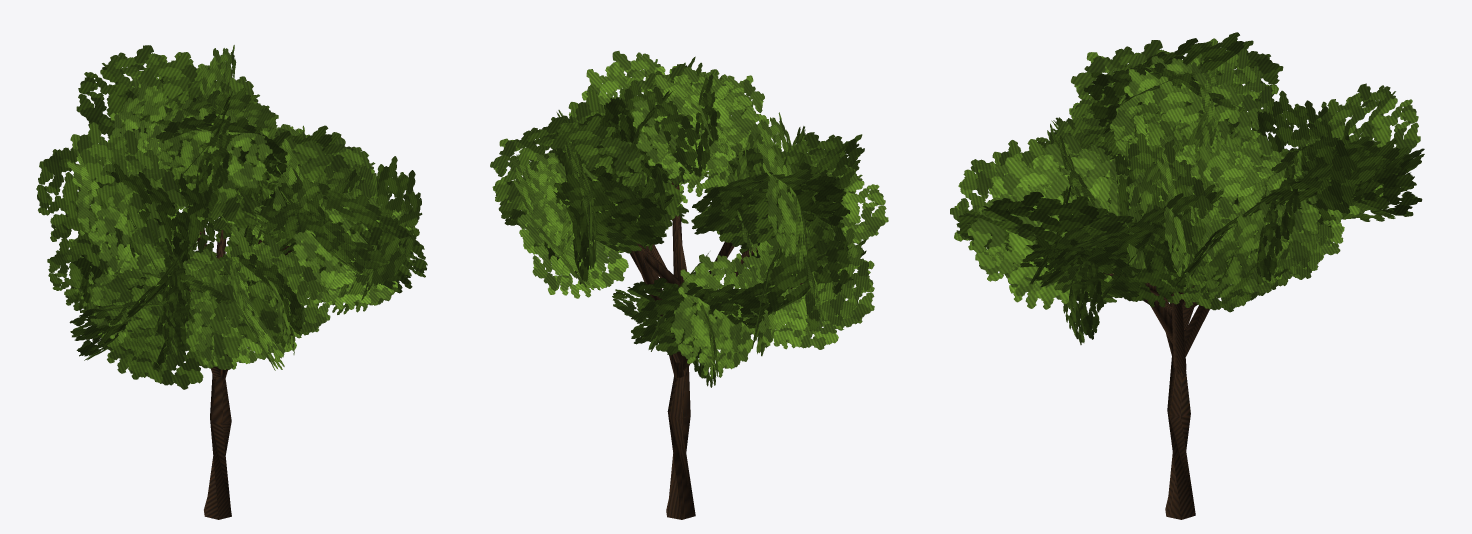
File: oak3Far.glb
3 views of the same model, side by side, from view 1: azimuth 30°, elevation 25°; view 2: azimuth 150°, elevation 25°; view 3: azimuth 270°, elevation 25° (orthographic). The views are drawn at different scales.
Visible parts, largest first — view 1: Rameaux feuillus oak3Far, Tronc et branches oak3Far; view 2: Rameaux feuillus oak3Far, Tronc et branches oak3Far; view 3: Rameaux feuillus oak3Far, Tronc et branches oak3Far.
Part boxes in pixels (box(x1,y1,x2,y2)): Rameaux feuillus oak3Far: box(36, 45, 427, 389); Tronc et branches oak3Far: box(189, 228, 293, 519); Rameaux feuillus oak3Far: box(490, 51, 888, 387); Tronc et branches oak3Far: box(611, 181, 803, 519); Rameaux feuillus oak3Far: box(950, 32, 1424, 344); Tronc et branches oak3Far: box(1103, 273, 1215, 519).
Size of the model in its own units: 15.01 by 17.5 by 18.46.
Materials: 2 (2 with a texture image).
